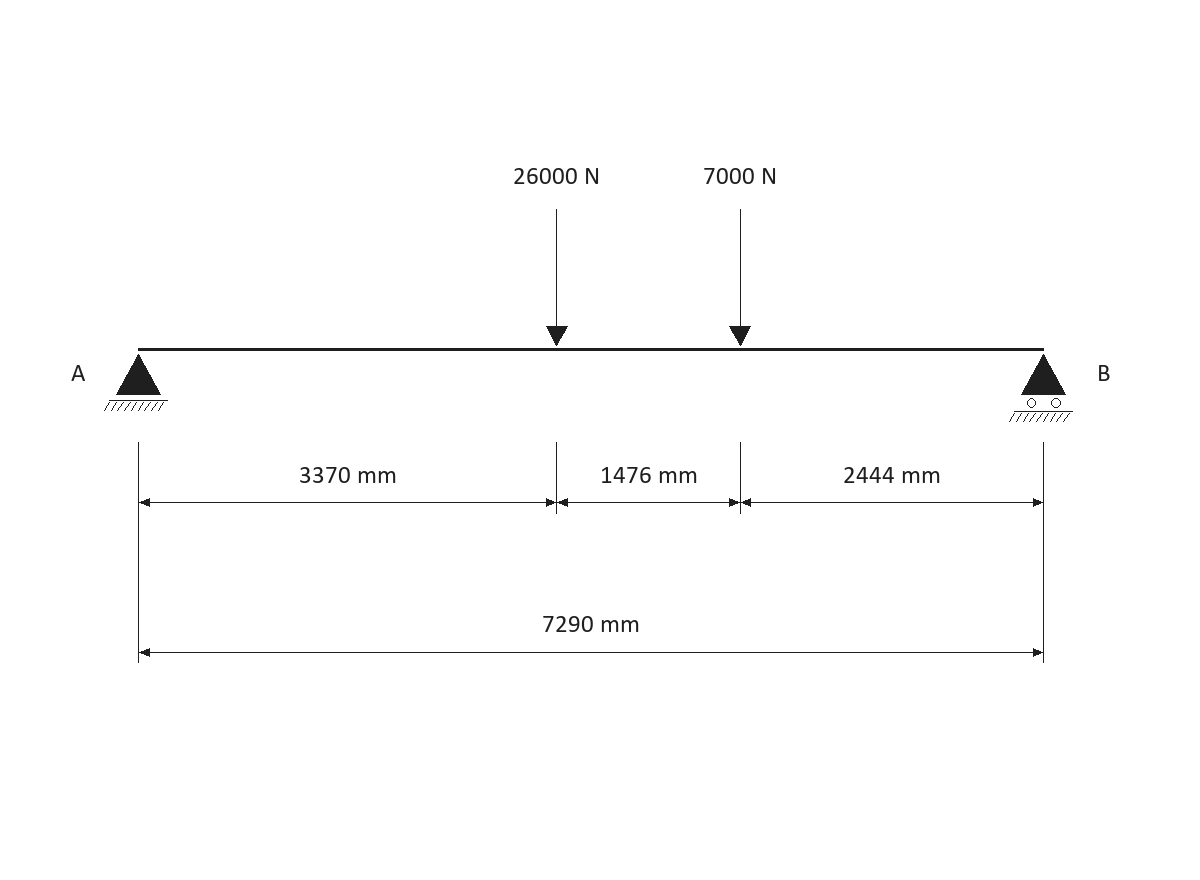pin_support: (104, 354, 168, 411)
point_load: (546, 209, 568, 346), (729, 209, 751, 346)
roller_support: (1009, 354, 1073, 422)
